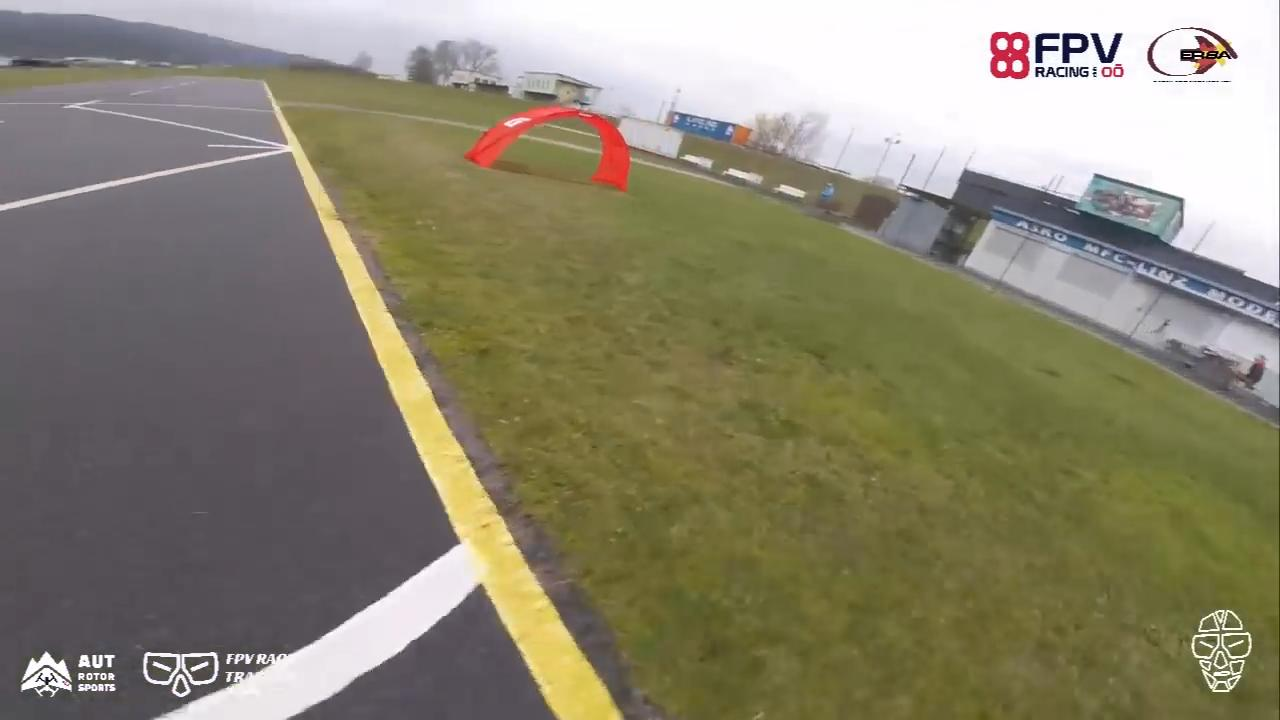gate: (464, 102, 635, 193)
